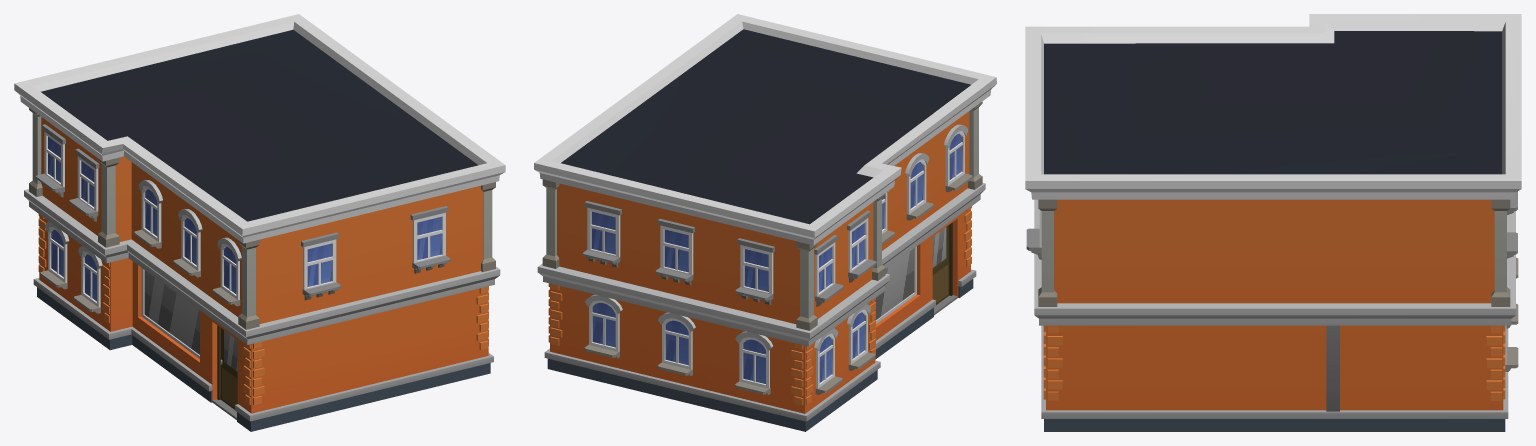
The model's file is Building_1_2_F.fbx.
The picture shows the model from 3 angles, left to right: view 1: azimuth 30°, elevation 25°; view 2: azimuth 150°, elevation 25°; view 3: azimuth 270°, elevation 25°; orthographic projection. The views are drawn at different scales.
Parts seen in each view (by area): view 1: Building_1_2_F; view 2: Building_1_2_F; view 3: Building_1_2_F.
Boxes of the visible parts, left/top/right/bottom form: Building_1_2_F: left=14, top=14, right=505, bottom=431; Building_1_2_F: left=534, top=14, right=996, bottom=431; Building_1_2_F: left=1025, top=14, right=1521, bottom=431.
Size of the model in its own units: 841 by 600 by 1057.
